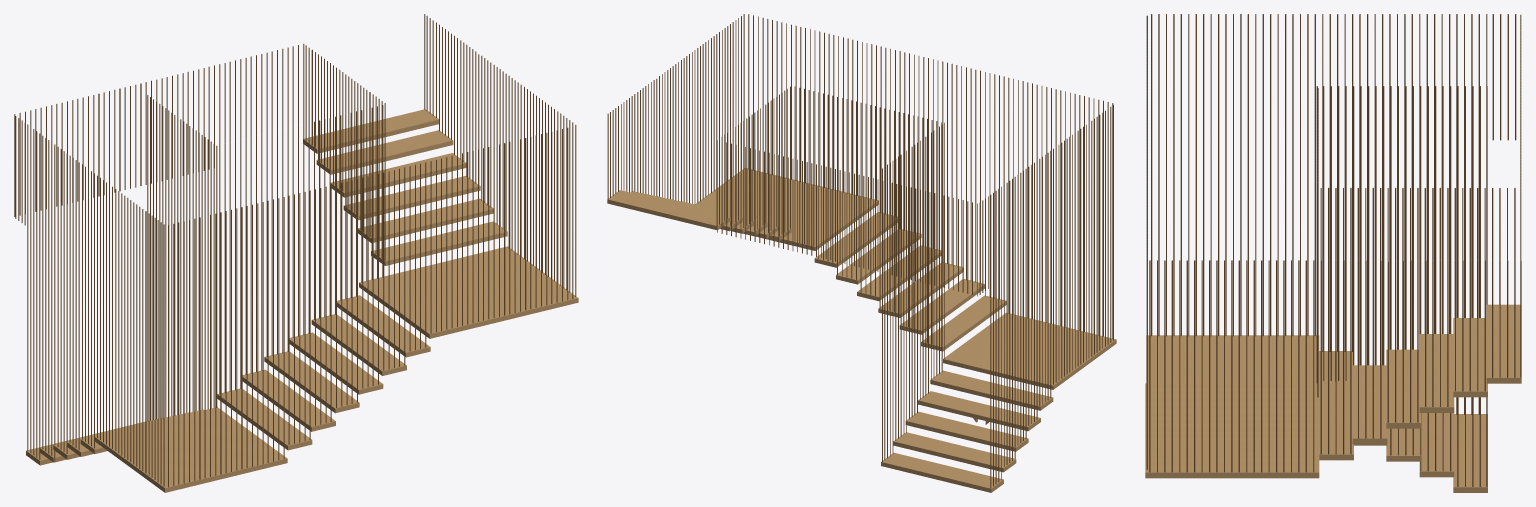
3 renders of one model, left to right at view 1: azimuth 30°, elevation 25°; view 2: azimuth 150°, elevation 25°; view 3: azimuth 270°, elevation 25°, orthographic. The views are drawn at different scales.
Visible parts, largest first — view 1: Group3, Group8, Group6, Group7, Group5, Group2, Group9, Group4; view 2: Group3, Group8, Group6, Group2, Group7, Group9, Group5, Group4; view 3: Group3, Group6, Group2, Group7, Group4, Group9, Group8, Group5.
Part boxes in pixels (box(x1,y1,x2,y2)): Group3: box(26, 109, 578, 492); Group8: box(168, 126, 573, 487); Group6: box(27, 124, 164, 486); Group7: box(147, 95, 217, 421); Group5: box(219, 105, 383, 394); Group2: box(424, 14, 576, 296); Group9: box(14, 44, 303, 225); Group4: box(304, 44, 385, 260); Group3: box(607, 168, 1116, 492); Group8: box(748, 14, 1113, 338); Group6: box(990, 104, 1113, 488); Group2: box(607, 14, 744, 204); Group7: box(882, 122, 944, 461); Group9: box(717, 140, 988, 296); Group5: box(794, 86, 941, 346); Group4: box(716, 86, 790, 236); Group3: box(1145, 304, 1521, 492); Group6: box(1151, 14, 1487, 414); Group2: box(1149, 260, 1521, 472); Group7: box(1316, 86, 1487, 486); Group4: box(1320, 187, 1521, 381); Group9: box(1492, 14, 1521, 187); Group8: box(1146, 15, 1147, 469); Group5: box(1317, 88, 1318, 397).
Bounding box in the file's own units: 4720 × 3610 × 3030.
